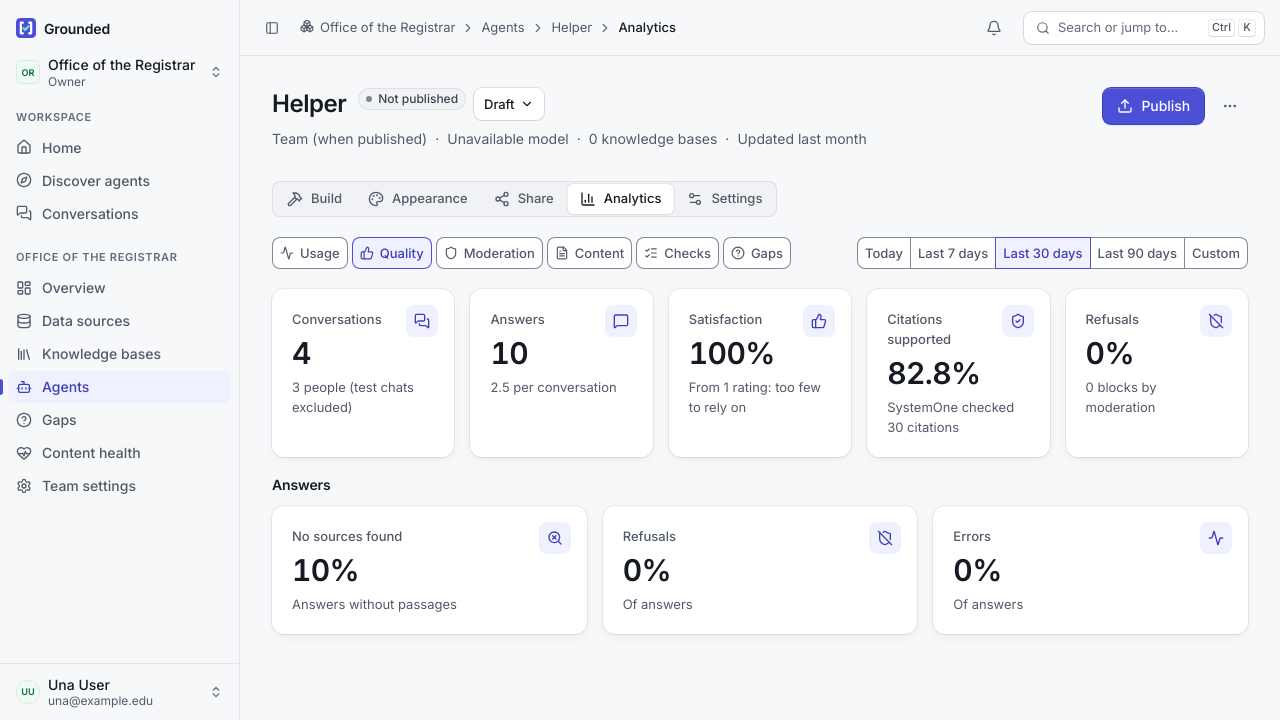
Test case: an agent's Analytics › Checks › shows the SystemOne cards in Checks, not in Quality
The width and height of the screenshot is (1280, 720).
Expected: the element "Answers" is shown, x1=272 y1=477 x2=1248 y2=634
Expected: the element "Passage judging (SystemOne)" is not shown
Click the button "Checks".
click(678, 253)  # box x1=636 y1=237 x2=719 y2=269
(page scrolled)
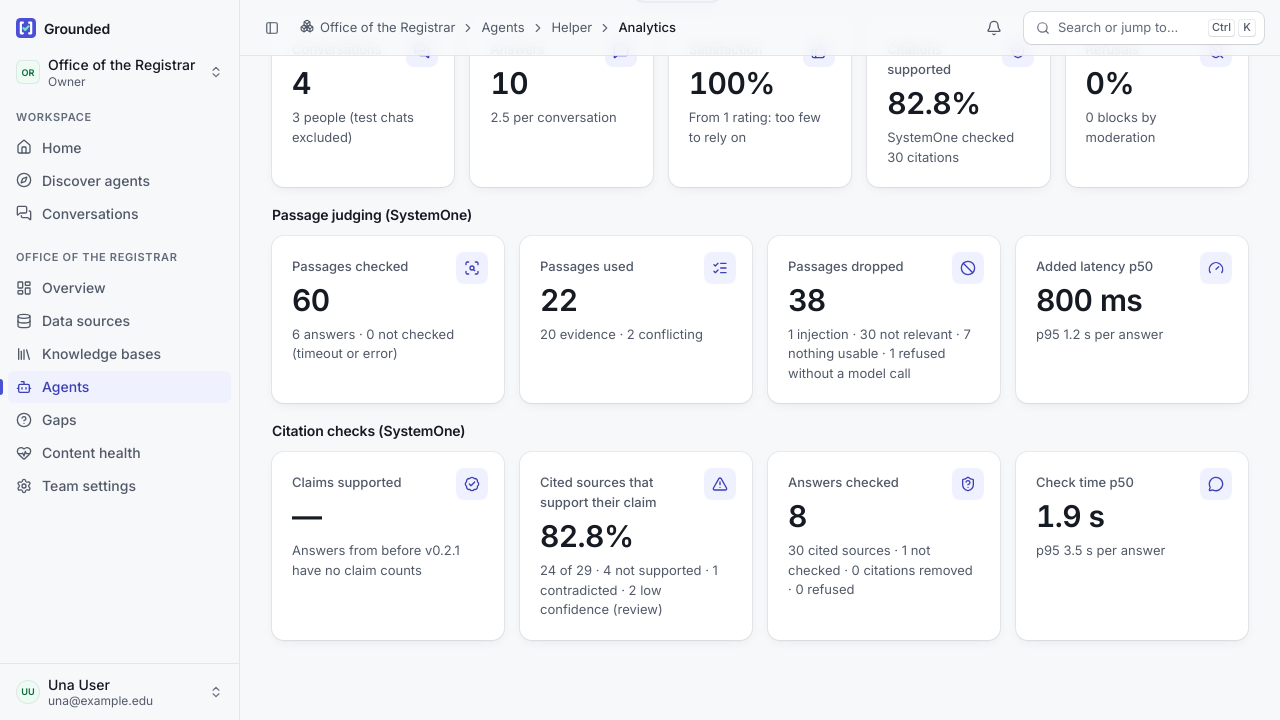
Expected: the element "Passage judging (SystemOne)" is shown, x1=272 y1=207 x2=1248 y2=403
Expected: the element "Citation checks (SystemOne)" is shown, x1=272 y1=423 x2=1248 y2=640
